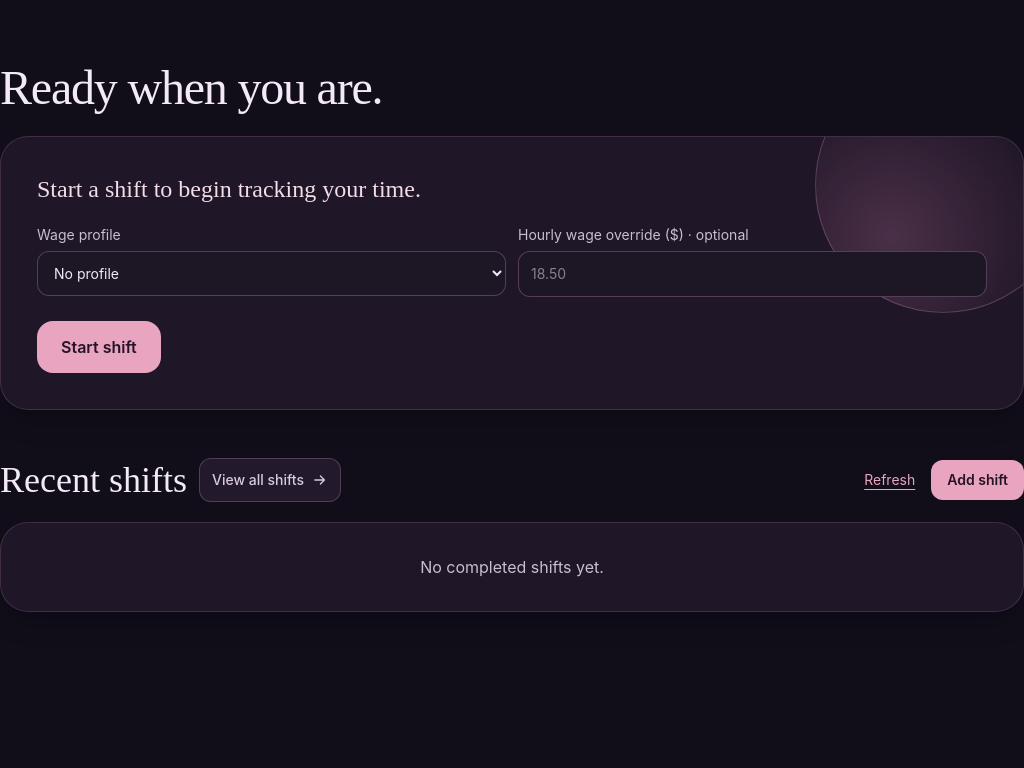
Test: shift logger › starts a shift once despite rapid clicks and loads its saved state
This screenshot has width=1024, height=768.
Click the button "Start shift". click: (99, 347)
box: x1=37 y1=321 x2=161 y2=373
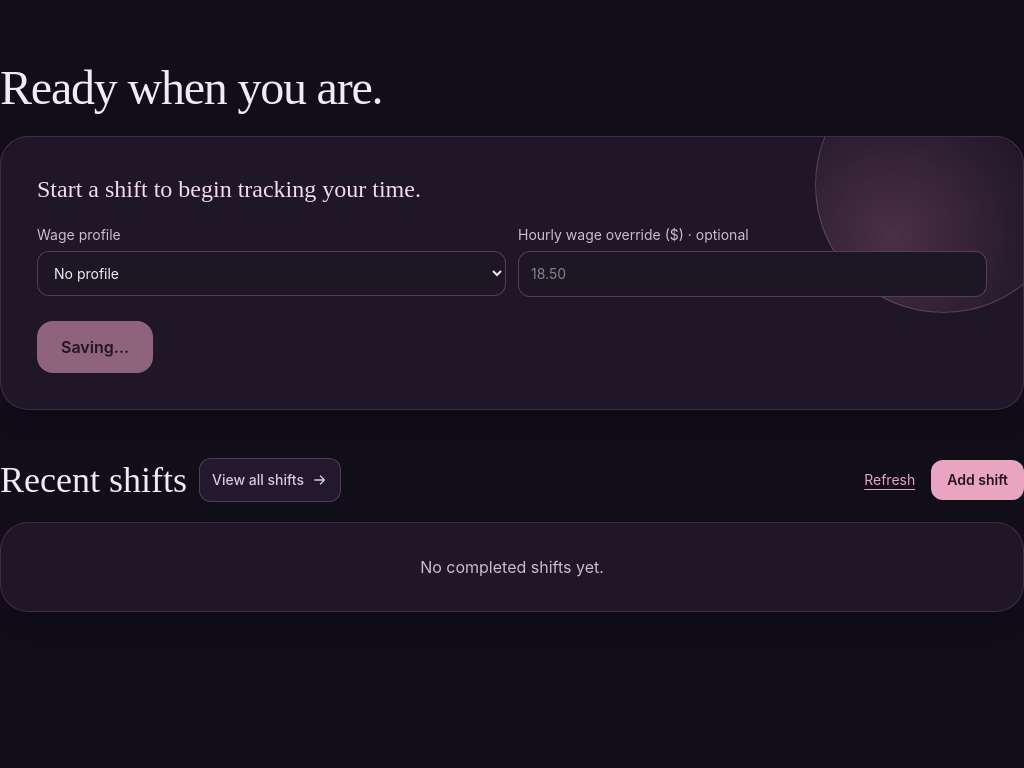
Click the button named "Start shift". click: (95, 347)
box: x1=37 y1=321 x2=153 y2=373
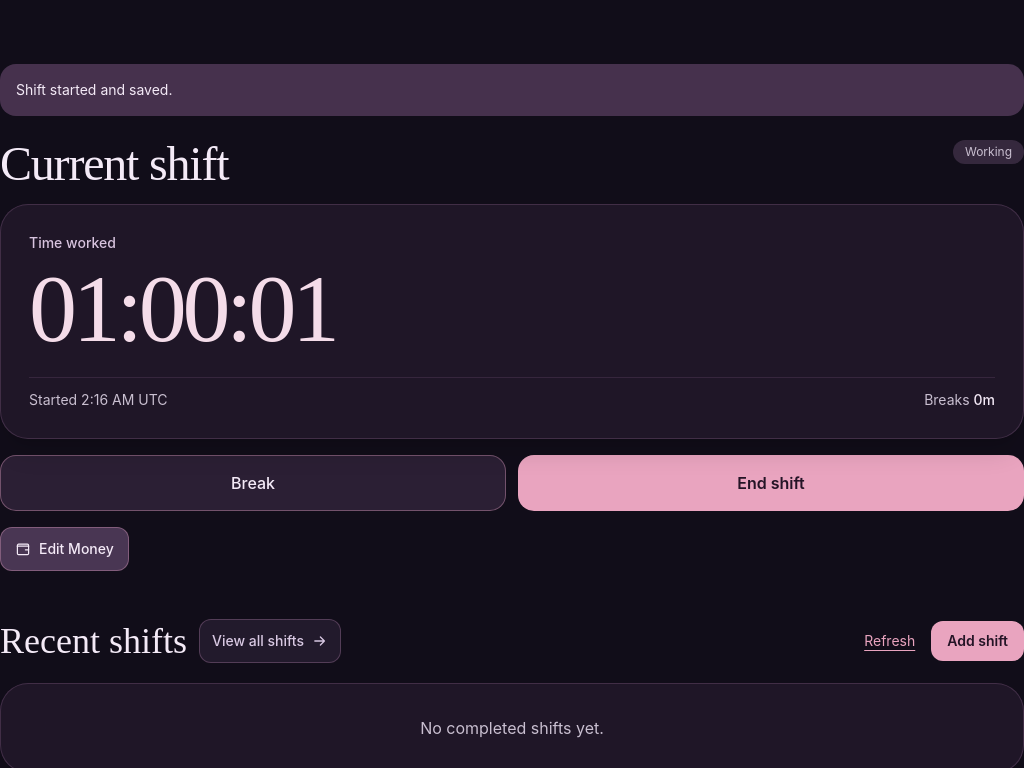
expect the heading "Current shift" is shown: met, box x1=0 y1=140 x2=228 y2=188
